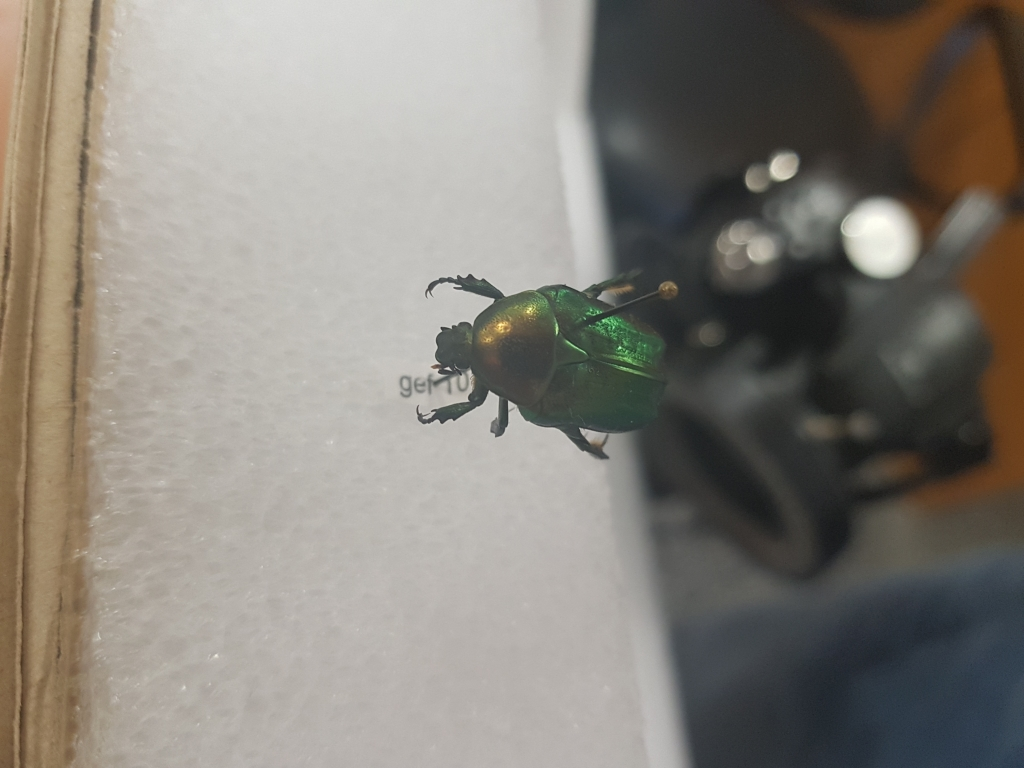Cetonia_aurata: (409, 267, 669, 464)
